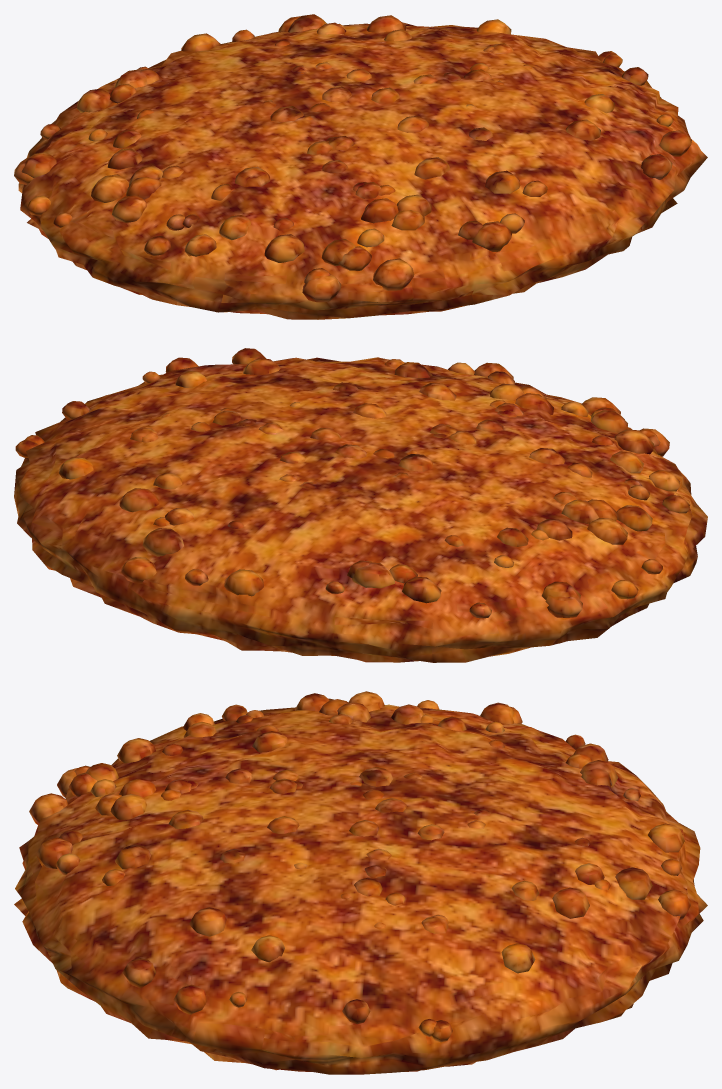
Rendered from savory-crispy-chicken.glb.
3 views of the same model, one above another, from view 1: azimuth 30°, elevation 25°; view 2: azimuth 150°, elevation 25°; view 3: azimuth 270°, elevation 25° (orthographic). The views are drawn at different scales.
Visible parts, largest first — view 1: savory-crispy-chicken; view 2: savory-crispy-chicken; view 3: savory-crispy-chicken.
Boxes of the visible parts, left/top/right/bottom form: savory-crispy-chicken: left=14, top=14, right=707, bottom=319; savory-crispy-chicken: left=14, top=348, right=707, bottom=662; savory-crispy-chicken: left=14, top=691, right=707, bottom=1074.
Bounding box in the file's own units: 2.3 × 0.5145 × 1.98.
Materials: 1 (1 with a texture image).
